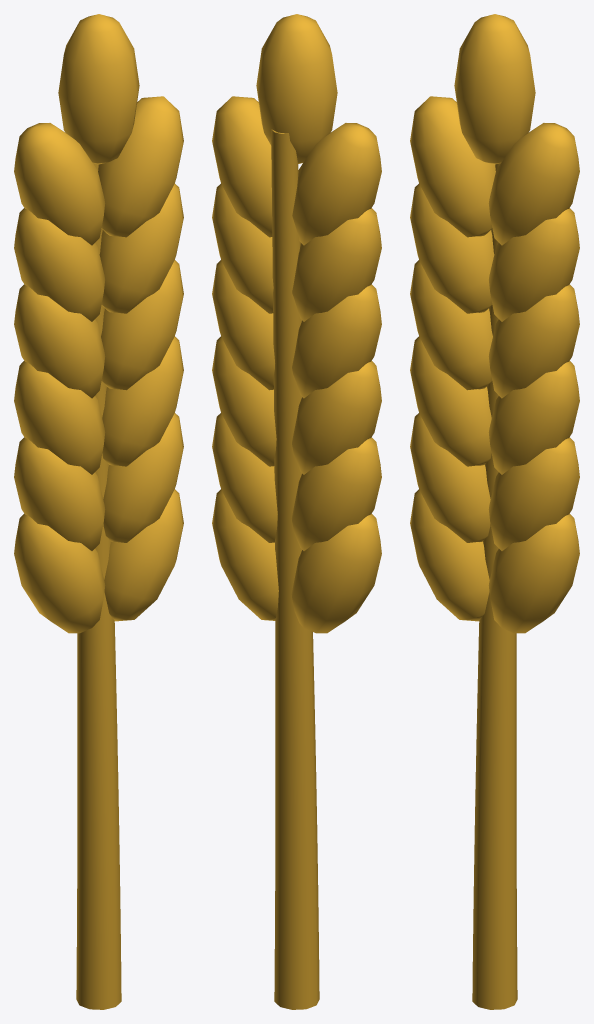
Rendered from SunGrain.fbx.
The picture shows the model from 3 angles, left to right: view 1: azimuth 30°, elevation 25°; view 2: azimuth 150°, elevation 25°; view 3: azimuth 330°, elevation 25°; orthographic projection.
Parts seen in each view (by area): view 1: Stem, Body.011, Body.010, Body.009, Body, Body.005, Body.003, Body.007, Body.001, Body.008, Body.006, Body.004 (+2 smaller); view 2: Stem, Body.011, Body.009, Body, Body.001, Body.003, Body.005, Body.007, Body.010, Handle, Body.002, Body.004 (+2 smaller); view 3: Stem, Body.011, Body.009, Body.010, Handle, Body.006, Body.004, Body.008, Body.002, Body.007, Body.005, Body.003 (+2 smaller).
Boxes of the visible parts, <box> form: Stem: <box>76,163,121,1009</box>; Body.011: <box>58,14,139,164</box>; Body.010: <box>98,96,183,237</box>; Body.009: <box>14,123,105,245</box>; Body: <box>14,513,105,633</box>; Body.005: <box>14,284,105,398</box>; Body.003: <box>14,361,105,474</box>; Body.007: <box>14,208,104,321</box>; Body.001: <box>14,437,105,550</box>; Body.008: <box>99,183,183,313</box>; Body.006: <box>101,260,183,390</box>; Body.004: <box>102,336,183,466</box>; Stem: <box>271,129,319,1009</box>; Body.011: <box>256,14,337,163</box>; Body.009: <box>292,123,381,245</box>; Body: <box>291,513,381,633</box>; Body.001: <box>291,437,381,550</box>; Body.003: <box>292,361,381,474</box>; Body.005: <box>292,284,381,398</box>; Body.007: <box>292,208,381,321</box>; Body.010: <box>212,96,272,237</box>; Handle: <box>212,489,278,620</box>; Body.002: <box>212,413,277,542</box>; Body.004: <box>212,336,276,466</box>; Stem: <box>472,163,517,1009</box>; Body.011: <box>454,14,535,164</box>; Body.009: <box>410,96,495,237</box>; Body.010: <box>488,123,579,245</box>; Handle: <box>488,513,579,633</box>; Body.006: <box>488,284,579,398</box>; Body.004: <box>488,361,579,474</box>; Body.008: <box>489,208,579,321</box>; Body.002: <box>488,437,579,550</box>; Body.007: <box>410,183,494,313</box>; Body.005: <box>410,260,492,390</box>; Body.003: <box>410,336,491,466</box>.
Size of the model in its own units: 0.2827 by 1.68 by 0.128.
